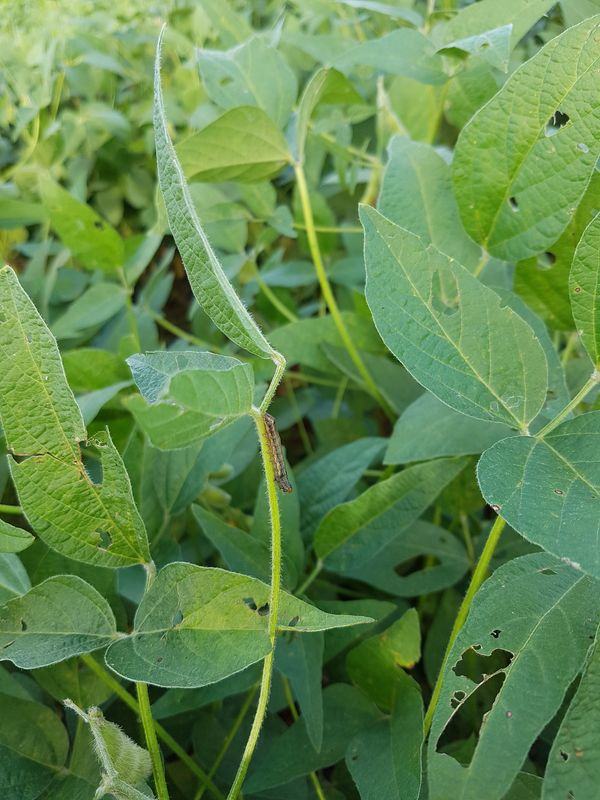Spodoptera_albula: (242, 404, 313, 502)
